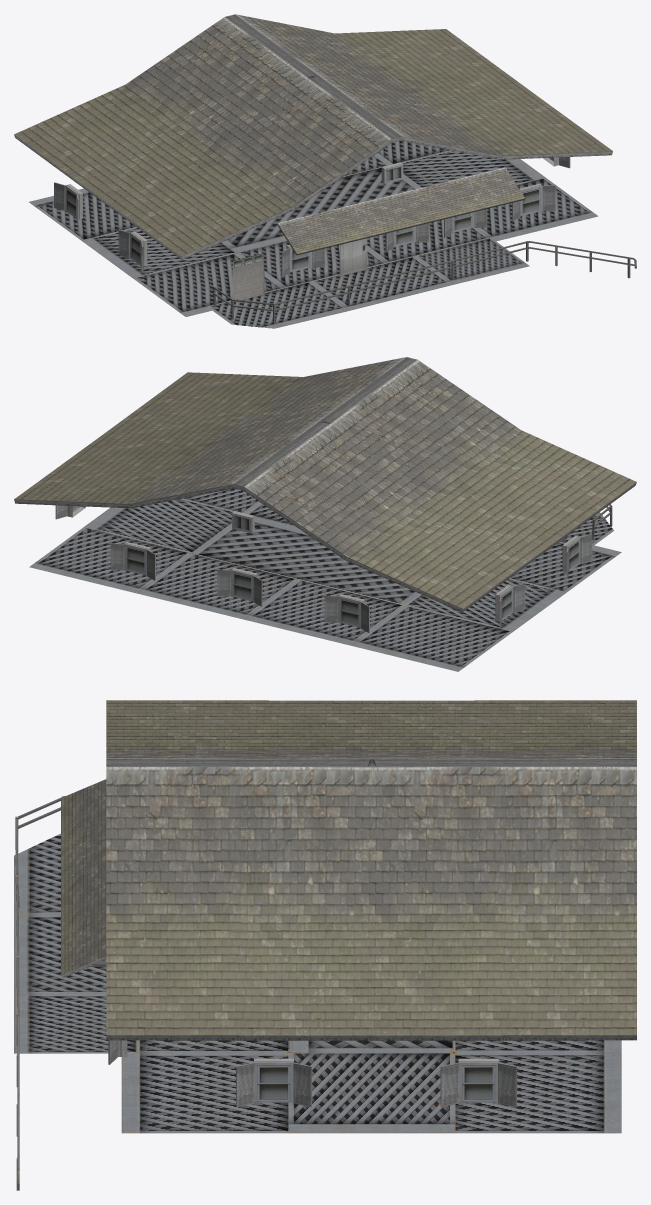
File: rural_woodenbuilding_1_rural_housetrim_1_0.glb
The picture shows the model from 3 angles, top to bottom: view 1: azimuth 30°, elevation 25°; view 2: azimuth 150°, elevation 25°; view 3: azimuth 270°, elevation 25°; orthographic projection. The views are drawn at different scales.
Parts seen in each view (by area): view 1: Rural_WoodenBuilding_1_Rural_Housetrim_1_0; view 2: Rural_WoodenBuilding_1_Rural_Housetrim_1_0; view 3: Rural_WoodenBuilding_1_Rural_Housetrim_1_0.
Boxes of the visible parts, bbox=[...] form: Rural_WoodenBuilding_1_Rural_Housetrim_1_0: bbox=[14, 14, 636, 328]; Rural_WoodenBuilding_1_Rural_Housetrim_1_0: bbox=[14, 357, 636, 671]; Rural_WoodenBuilding_1_Rural_Housetrim_1_0: bbox=[14, 700, 636, 1190].
Bounding box in the file's own units: 15.6 × 5.85 × 12.26.
Materials: 1 (1 with a texture image).
